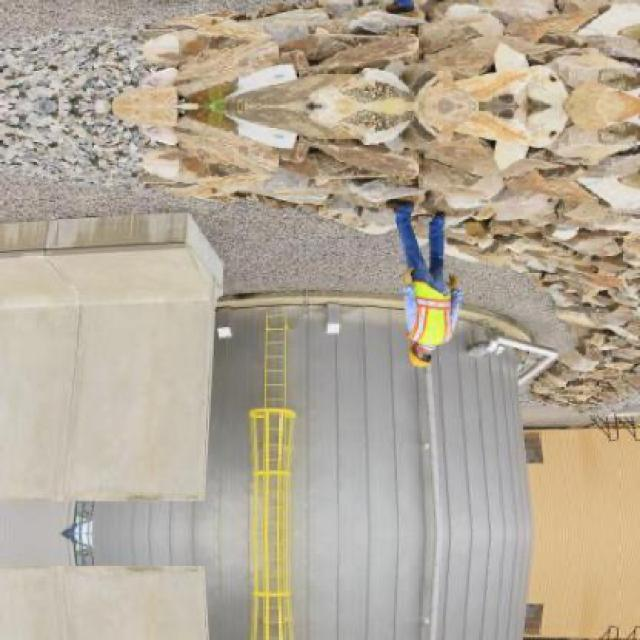con casco: (408, 336, 440, 376)
